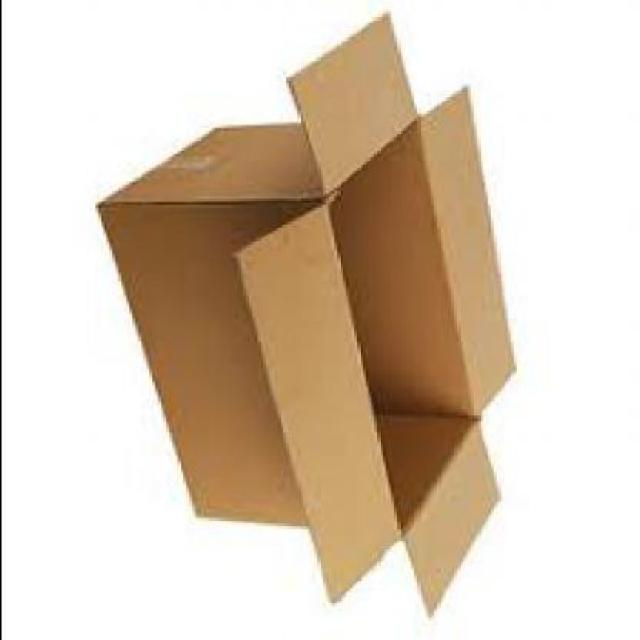CARDBOARD: (96, 8, 524, 614)
